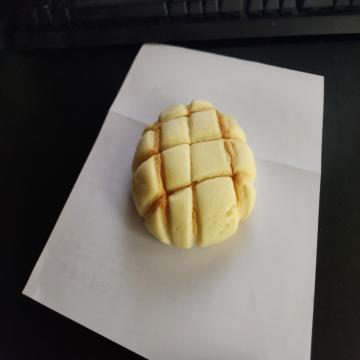melon_bread: (131, 99, 255, 248)
